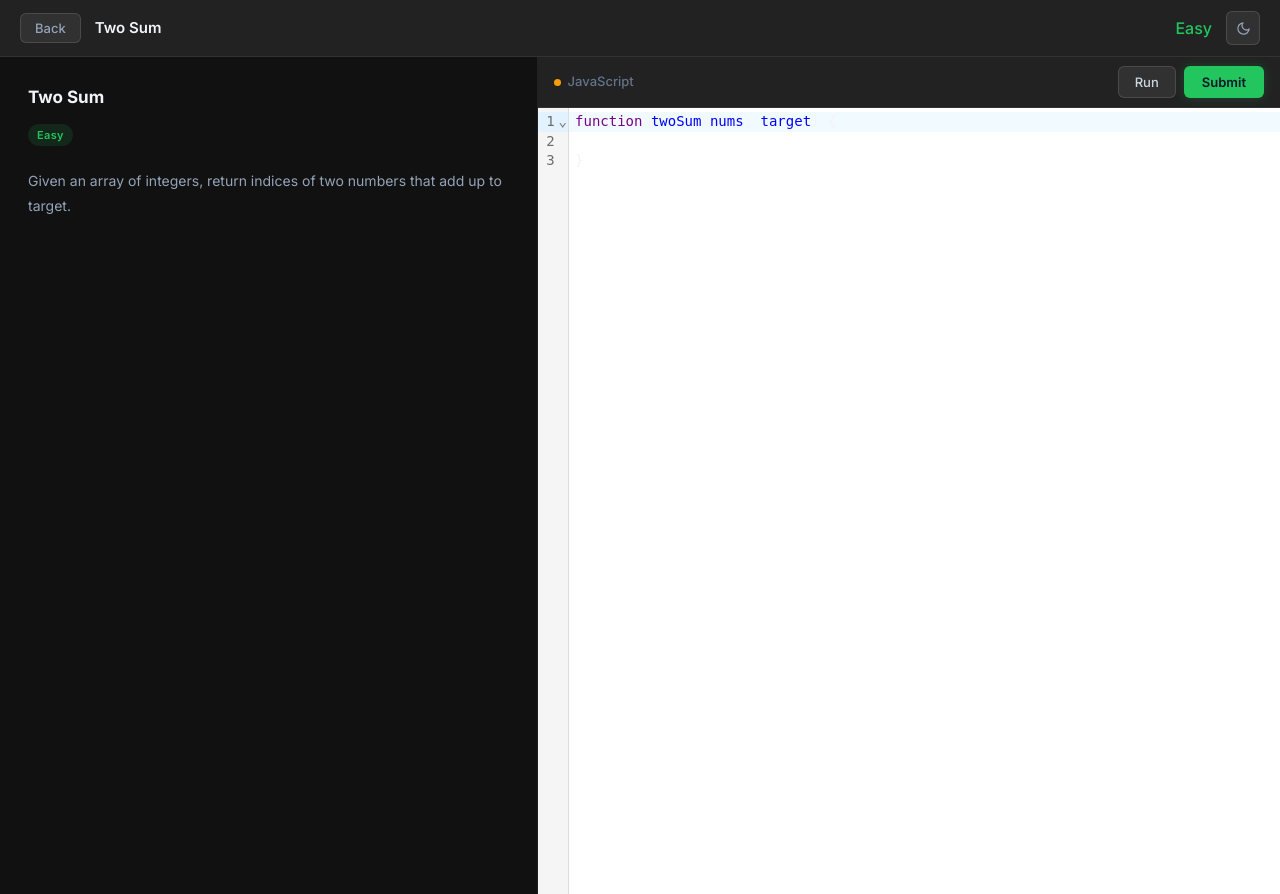
clicking Submit shows Wrong Answer when a test case fails
Click the button "Submit" at (1224, 82), box 1184,66 -> 1264,98
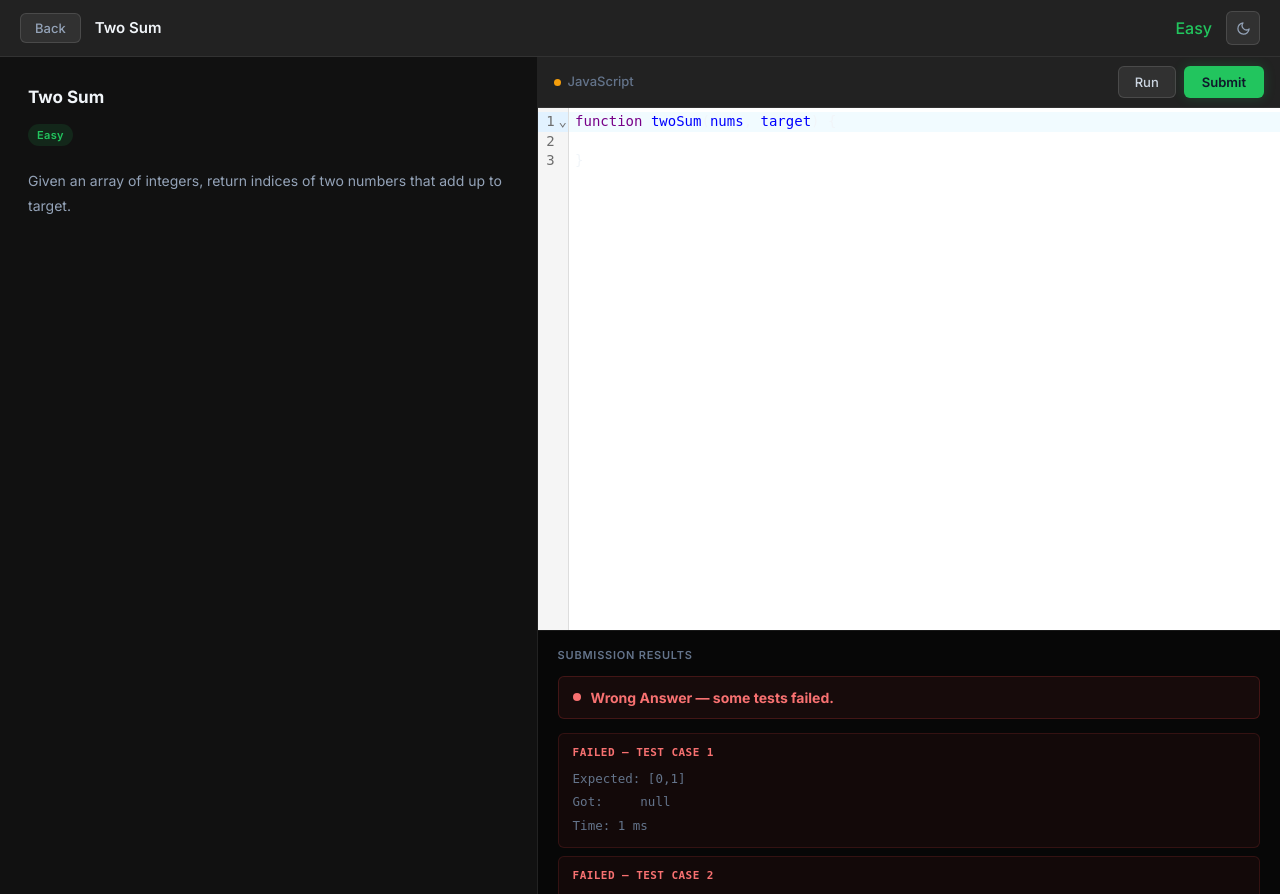
expect the text "Wrong Answer — some tests failed." is shown: met, box 558,676 -> 1260,718
